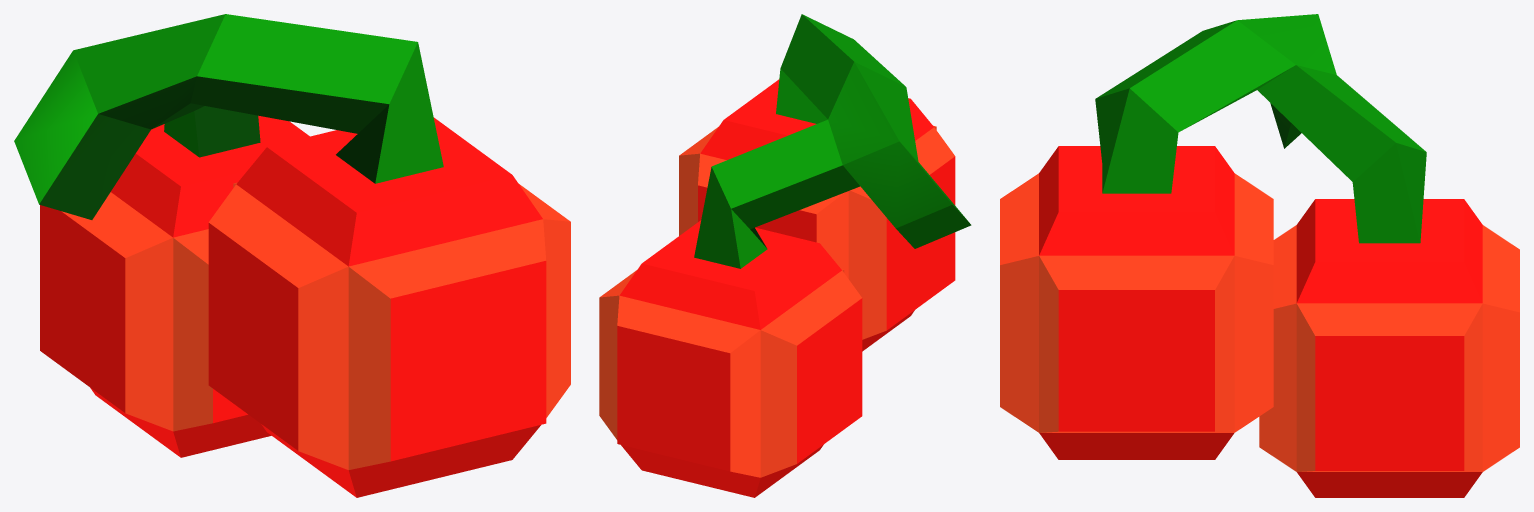
The model's file is CherryModel.fbx.
3 renders of one model, left to right at view 1: azimuth 30°, elevation 25°; view 2: azimuth 150°, elevation 25°; view 3: azimuth 270°, elevation 25°, orthographic. The views are drawn at different scales.
Parts seen in each view (by area): view 1: Cherry; view 2: Cherry; view 3: Cherry.
Part boxes in pixels (x1=…): Cherry: x1=14, y1=14, x2=570, y2=497; Cherry: x1=599, y1=14, x2=971, y2=497; Cherry: x1=1000, y1=14, x2=1519, y2=497.
Bounding box in the file's own units: 67.25 × 84.32 × 74.22.
